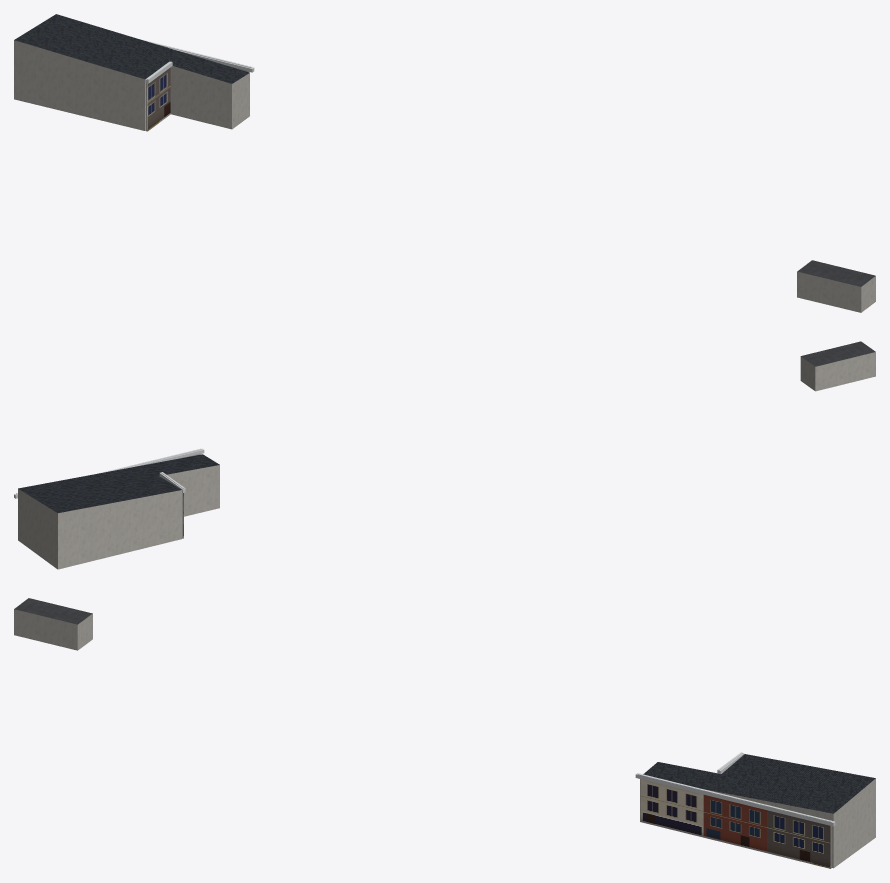
3 renders of one model, top to bottom at view 1: azimuth 90°, elevation 25°; view 2: azimuth 150°, elevation 25°; view 3: azimuth 270°, elevation 25°, orthographic. The views are drawn at different scales.
Parts seen in each view (by area): view 1: bldg_6004321708, bldg_6004321708_roof, bldg_6004321696, bldg_6004321708_facade0, bldg_6004321696_roof; view 2: bldg_6004321708, bldg_6004321708_roof, bldg_6004321696, bldg_6004321696_roof; view 3: bldg_6004321708_facade3, bldg_6004321708_roof, bldg_6004321708, bldg_6004321696, bldg_6004321696_roof.
Boxes of the visible parts, x1,y1,x2,y2 form: bldg_6004321708: (14, 40, 249, 130); bldg_6004321708_roof: (14, 14, 249, 83); bldg_6004321696: (797, 271, 875, 312); bldg_6004321708_facade0: (145, 61, 172, 131); bldg_6004321696_roof: (797, 260, 875, 286); bldg_6004321708: (18, 465, 219, 569); bldg_6004321708_roof: (18, 454, 219, 513); bldg_6004321696: (800, 352, 875, 391); bldg_6004321696_roof: (801, 341, 875, 366); bldg_6004321708_facade3: (635, 773, 835, 868); bldg_6004321708_roof: (643, 754, 875, 813); bldg_6004321708: (640, 778, 875, 868); bldg_6004321696: (14, 609, 92, 650); bldg_6004321696_roof: (14, 598, 92, 624).
Size of the model in its own units: 55.24 by 6.2 by 81.65.
6 materials, 4 textured.
